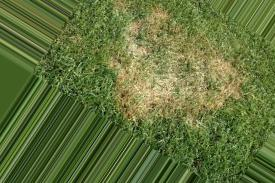patch: (136, 36, 205, 113)
